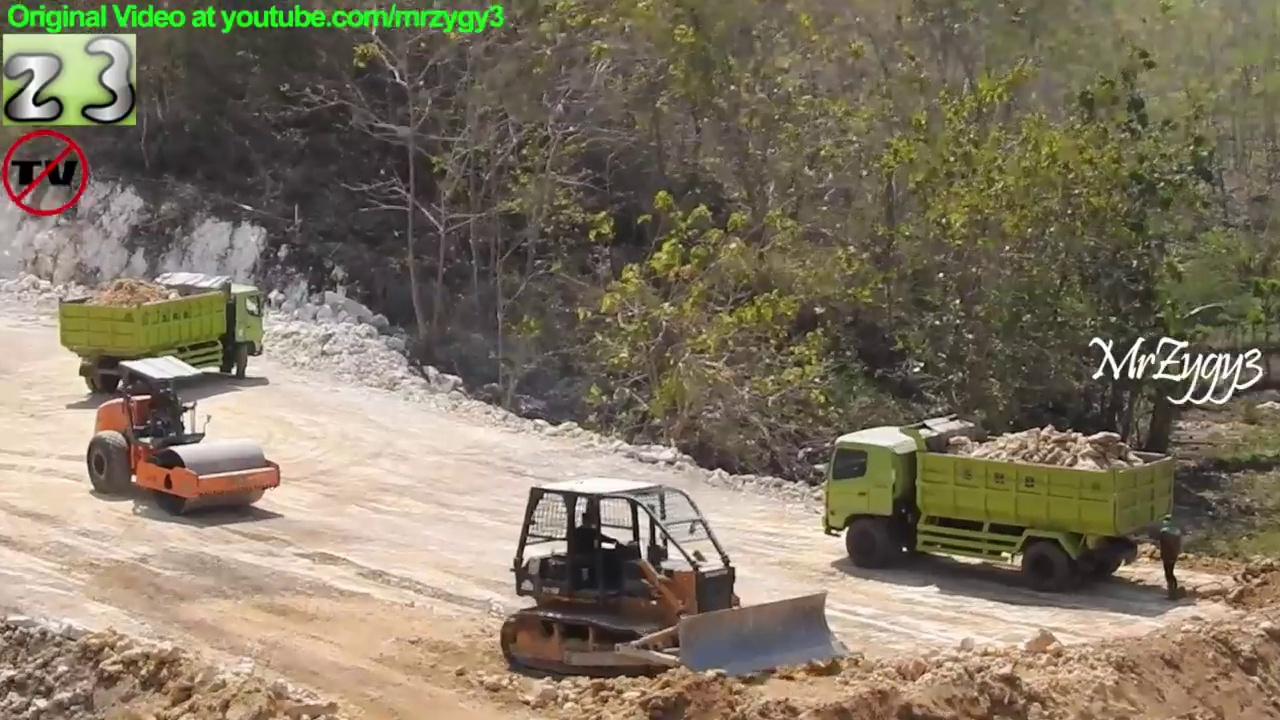bulldozer: (495, 474, 858, 683)
compactor: (85, 351, 288, 519)
truck: (807, 407, 1184, 595), (54, 267, 269, 402)
